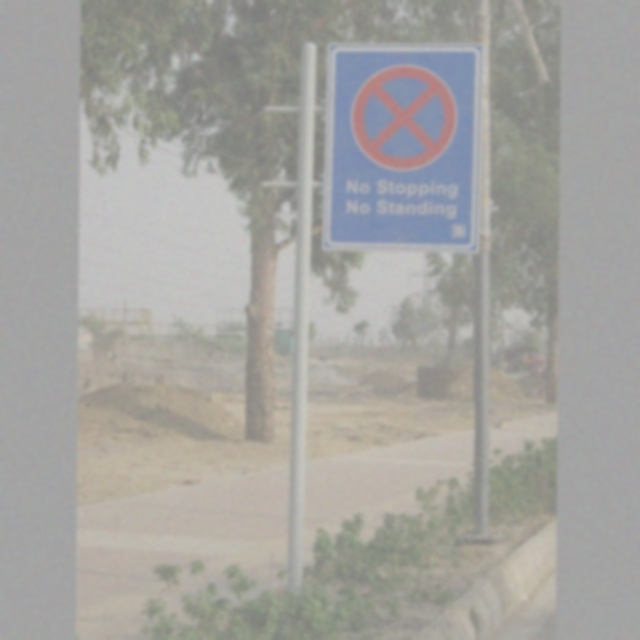No_Stopping_or_Standing: (342, 50, 463, 176)
